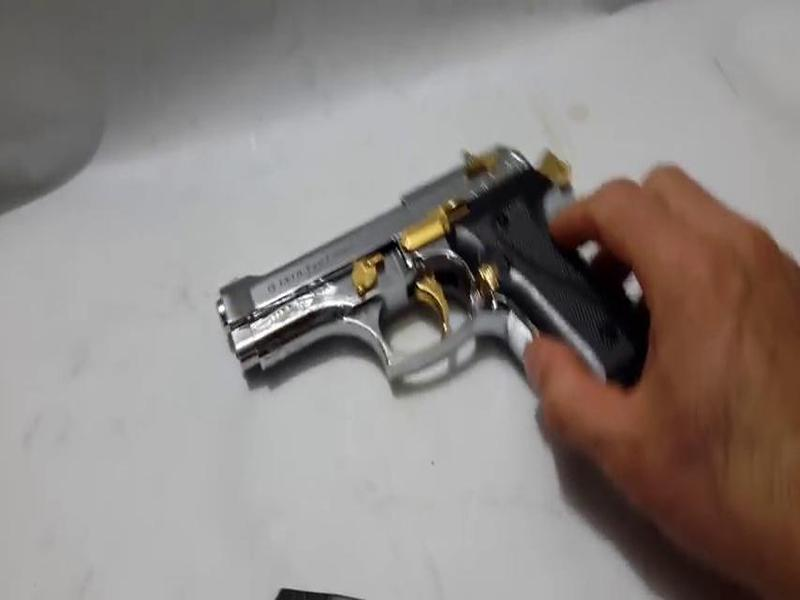Pistola: (211, 142, 666, 452)
